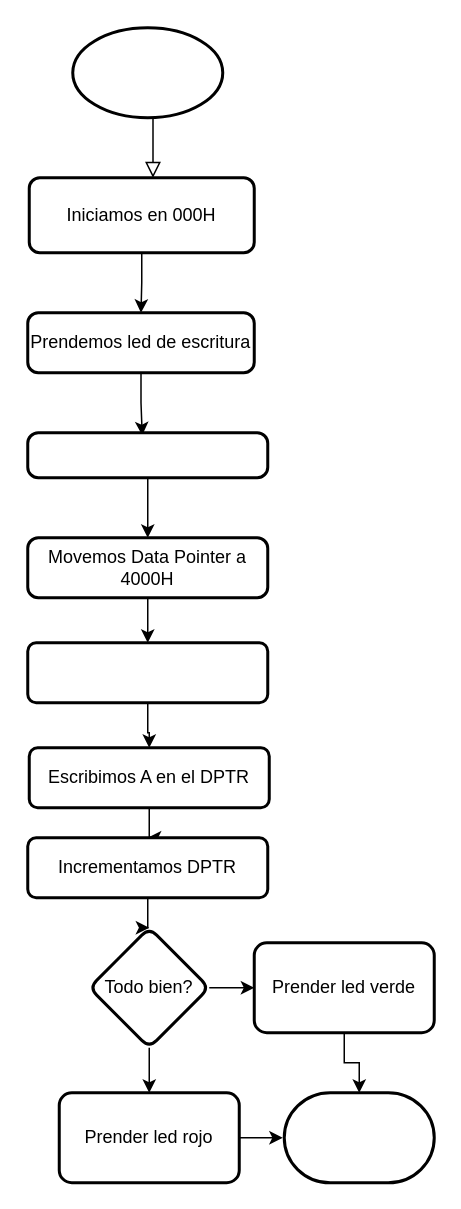
Some shapes in this 461 by 1209 pixel diagram are drawn without their labels. Each missing label, with the centre of its shape:
Movemos 55H a A: the point at 147,672
Push Button: the point at 147,72
Seteamos bits de otros leds.: the point at 147,454
WAIT: the point at 358,1137
